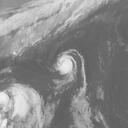cyclone: (55, 49, 84, 76)
